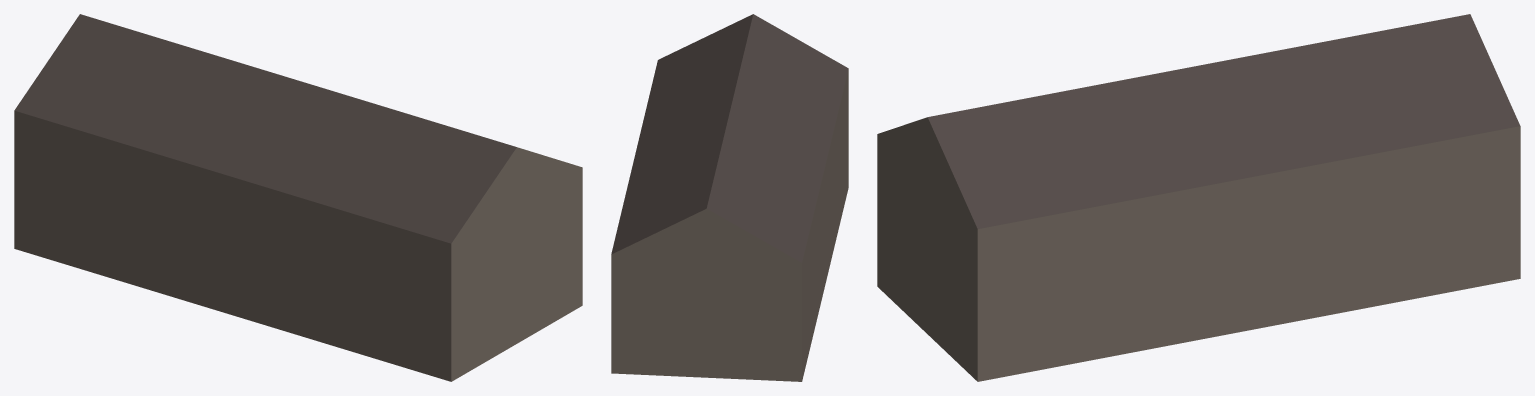
The picture shows the model from 3 angles, left to right: view 1: azimuth 30°, elevation 25°; view 2: azimuth 150°, elevation 25°; view 3: azimuth 270°, elevation 25°; orthographic projection. The views are drawn at different scales.
Visible parts, largest first — view 1: HP-w859424162; view 2: HP-w859424162; view 3: HP-w859424162.
Boxes of the visible parts, bbox=[...] form: HP-w859424162: bbox=[14, 14, 582, 381]; HP-w859424162: bbox=[611, 14, 848, 381]; HP-w859424162: bbox=[877, 14, 1520, 381].
Bounding box in the file's own units: 16.71 × 8.53 × 22.9.
